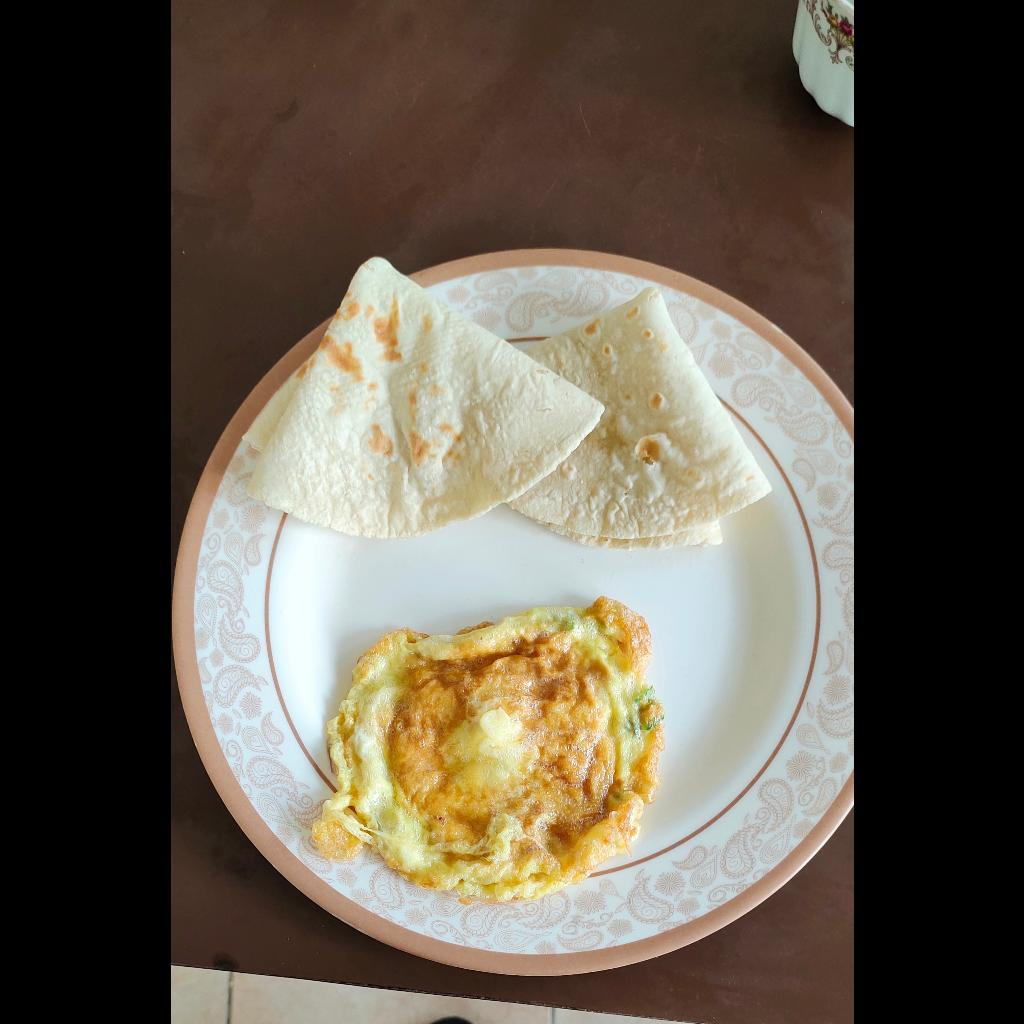egg-poached: (312, 597, 664, 908)
ruti: (235, 252, 769, 556)
